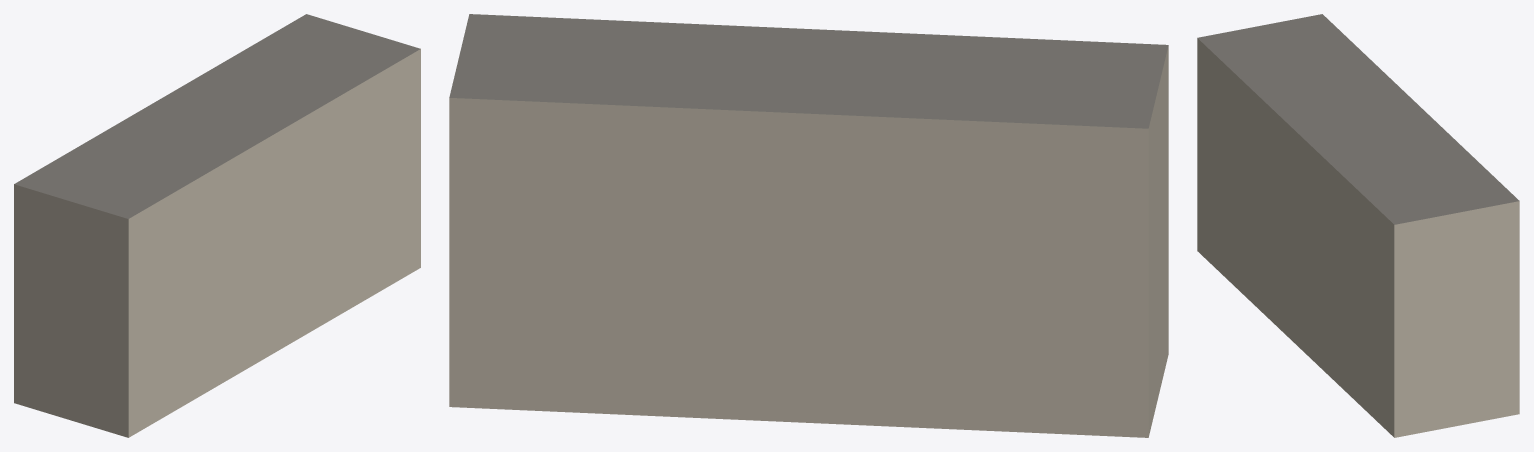
3 renders of one model, left to right at view 1: azimuth 30°, elevation 25°; view 2: azimuth 150°, elevation 25°; view 3: azimuth 270°, elevation 25°, orthographic. The views are drawn at different scales.
Parts seen in each view (by area): view 1: HP-w1435300036; view 2: HP-w1435300036; view 3: HP-w1435300036.
Part boxes in pixels (x1=…): HP-w1435300036: x1=14, y1=14, x2=420, y2=437; HP-w1435300036: x1=449, y1=14, x2=1168, y2=437; HP-w1435300036: x1=1197, y1=14, x2=1519, y2=437.
Bounding box in the file's own units: 38.2 × 18 × 24.69.
